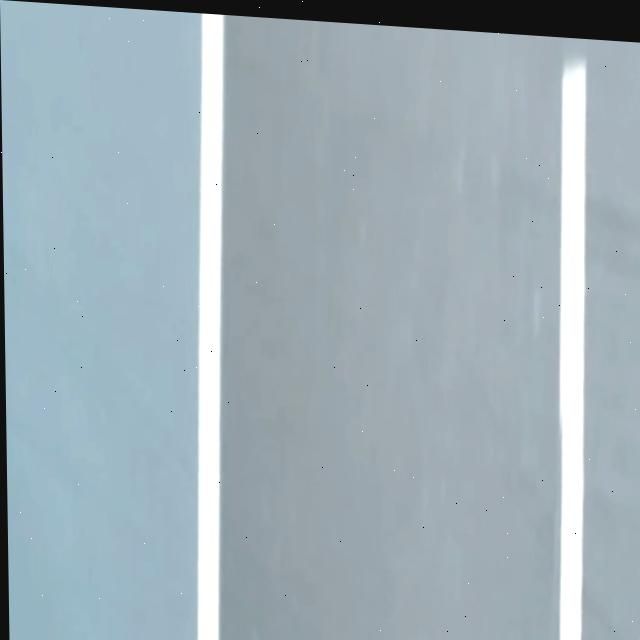center: (559, 61, 584, 640)
left: (197, 13, 223, 640)
